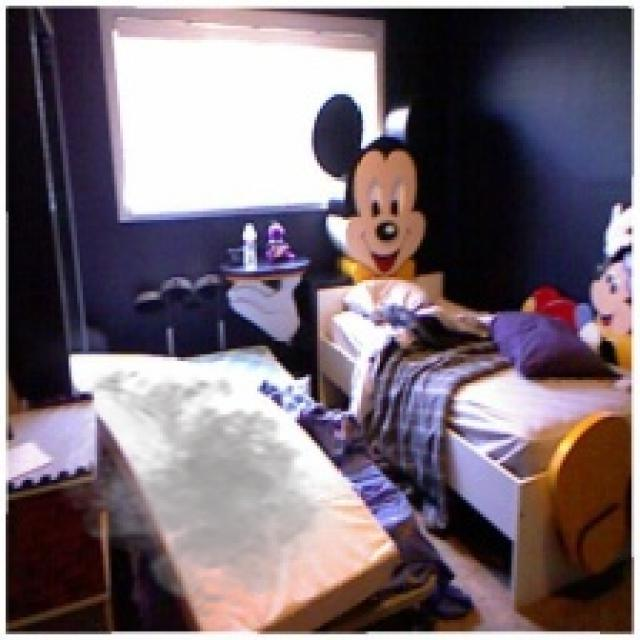Smoke: (52, 363, 334, 623)
